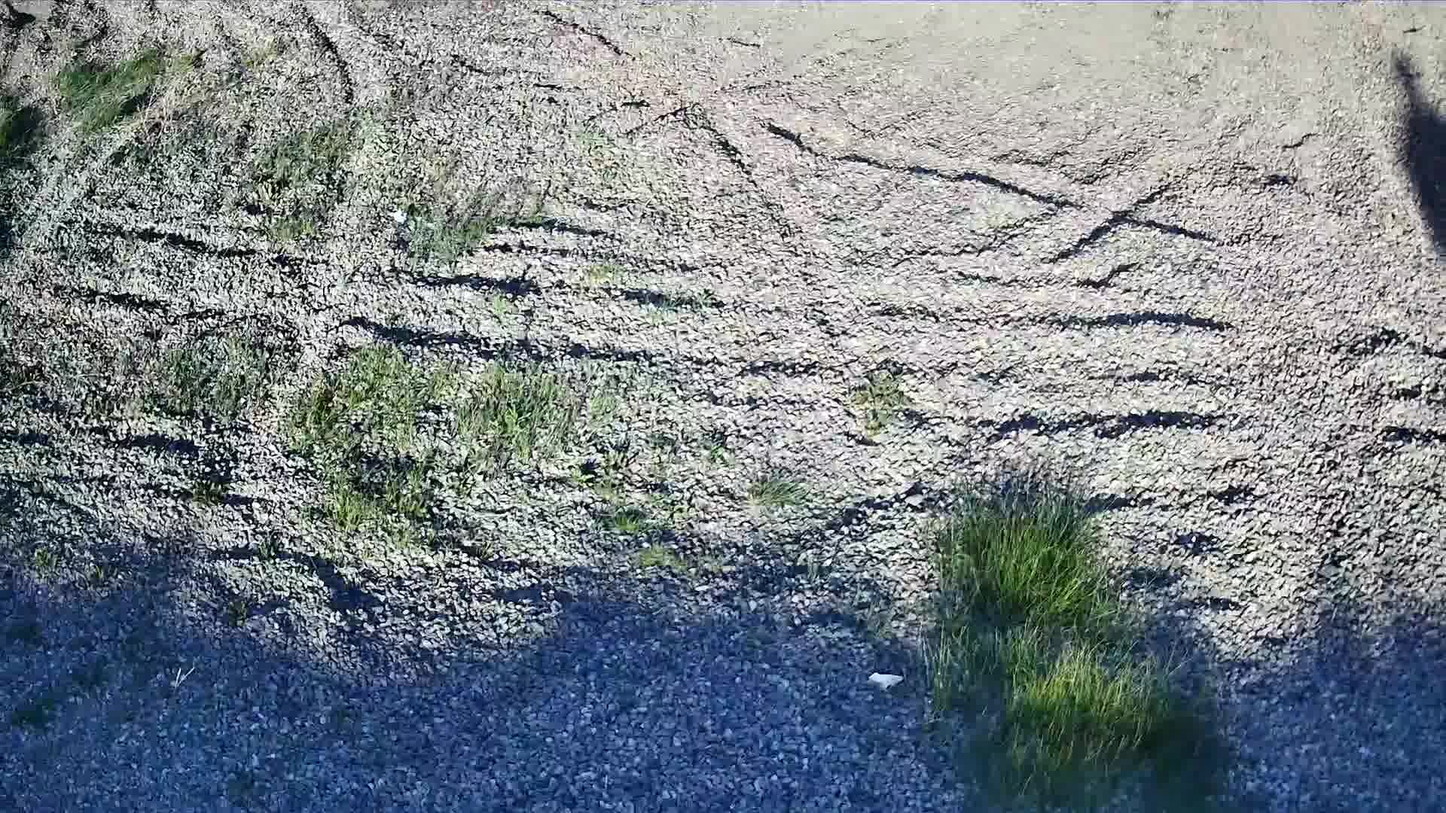Target: (868, 669, 905, 688)
